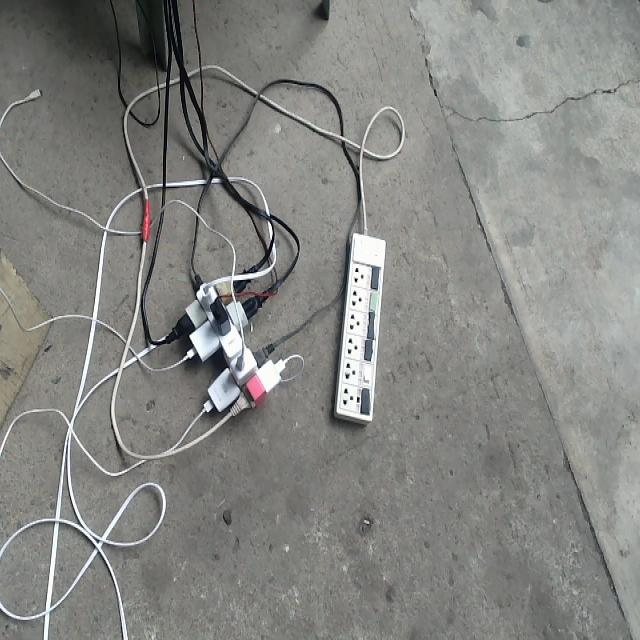-: (172, 269, 285, 419)
